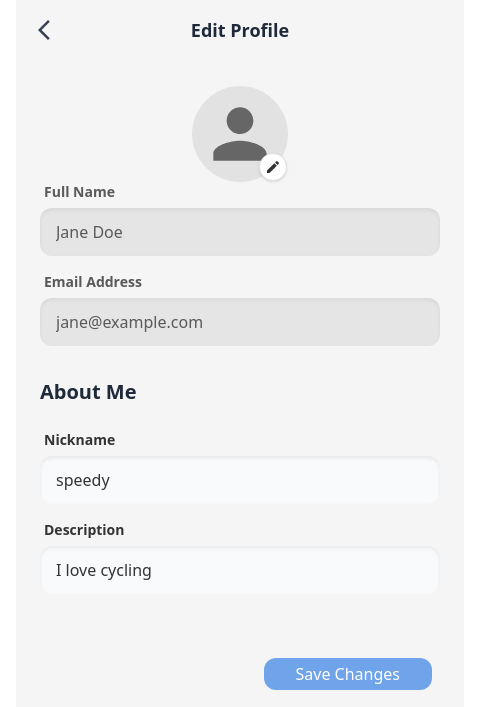
Test: ProfileForm › resets form to original user data when back is clicked
This screenshot has width=481, height=707.
Replace the text in the field showing "speedy" below "Nickname" with "changedNick" at (240, 480), box left=40, top=456, right=440, bottom=504
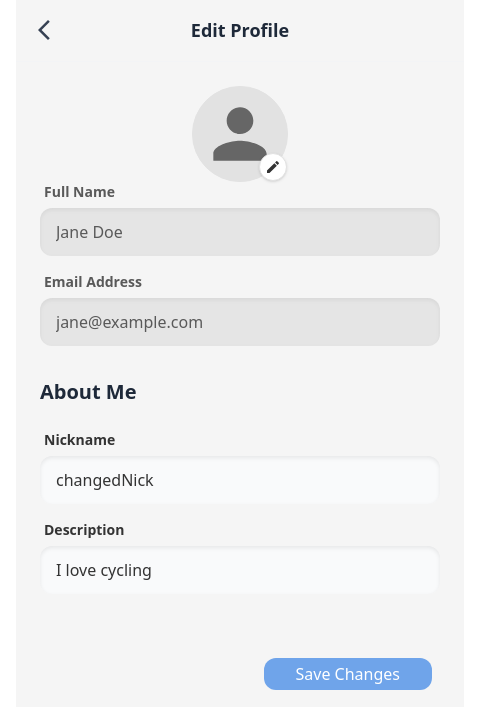
Click the button with test id "ArrowBackIosNewIcon".
click(44, 29)  # box left=32, top=17, right=56, bottom=42
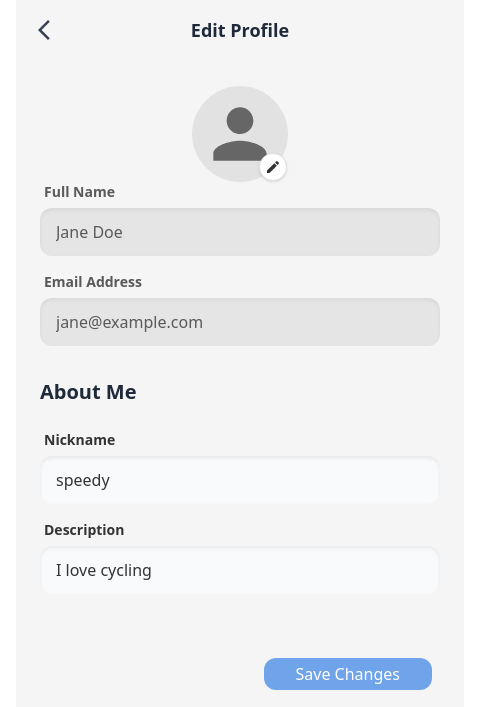
Now the field showing "speedy" below "Nickname" is shown, box left=40, top=456, right=440, bottom=504
